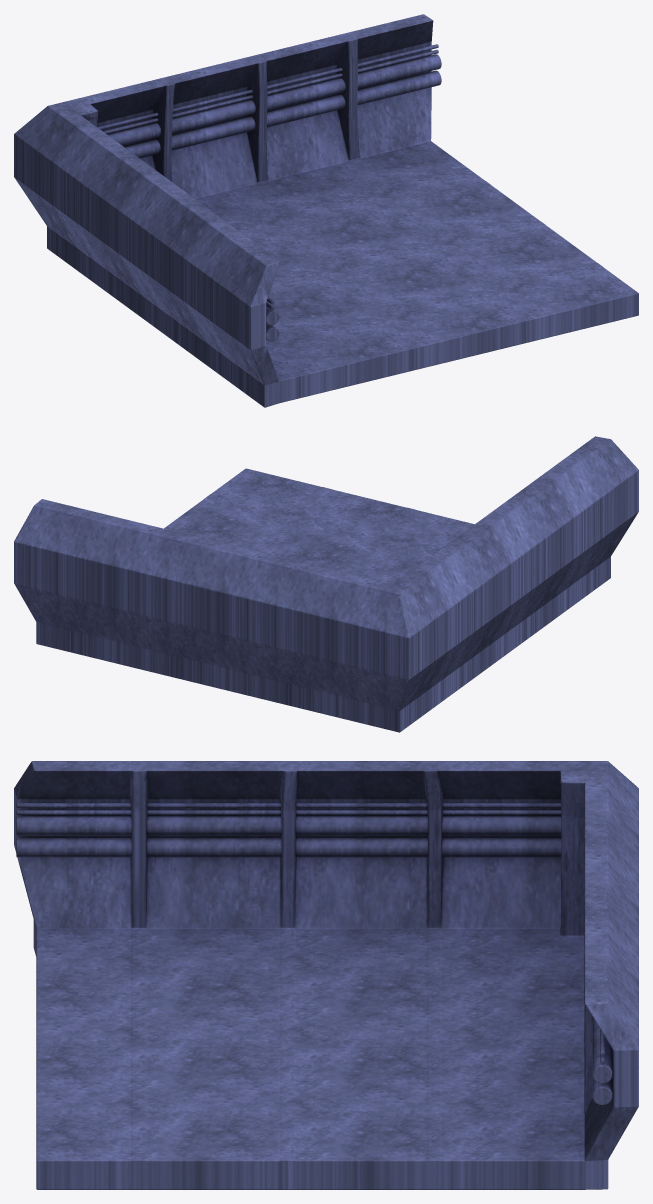
File: my_ship.glb
3 views of the same model, one above another, from view 1: azimuth 30°, elevation 25°; view 2: azimuth 150°, elevation 25°; view 3: azimuth 270°, elevation 25° (orthographic). The views are drawn at different scales.
Visible parts, largest first — view 1: Cube; view 2: Cube; view 3: Cube.
Part boxes in pixels (x1,y1,x2,y2): Cube: (14,14,638,407); Cube: (14,436,638,732); Cube: (14,761,638,1189).
Bounding box in the file's own units: 9.12 × 3.03 × 9.12.
1 material, 1 textured.
